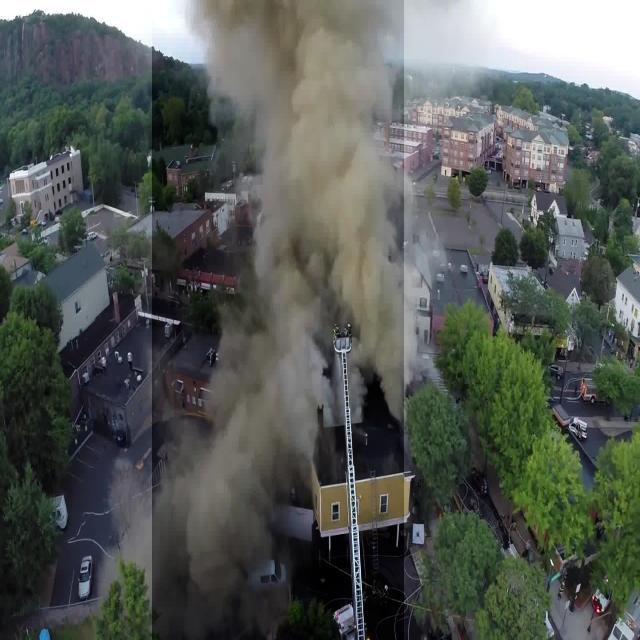Smoke: (152, 0, 404, 640)
